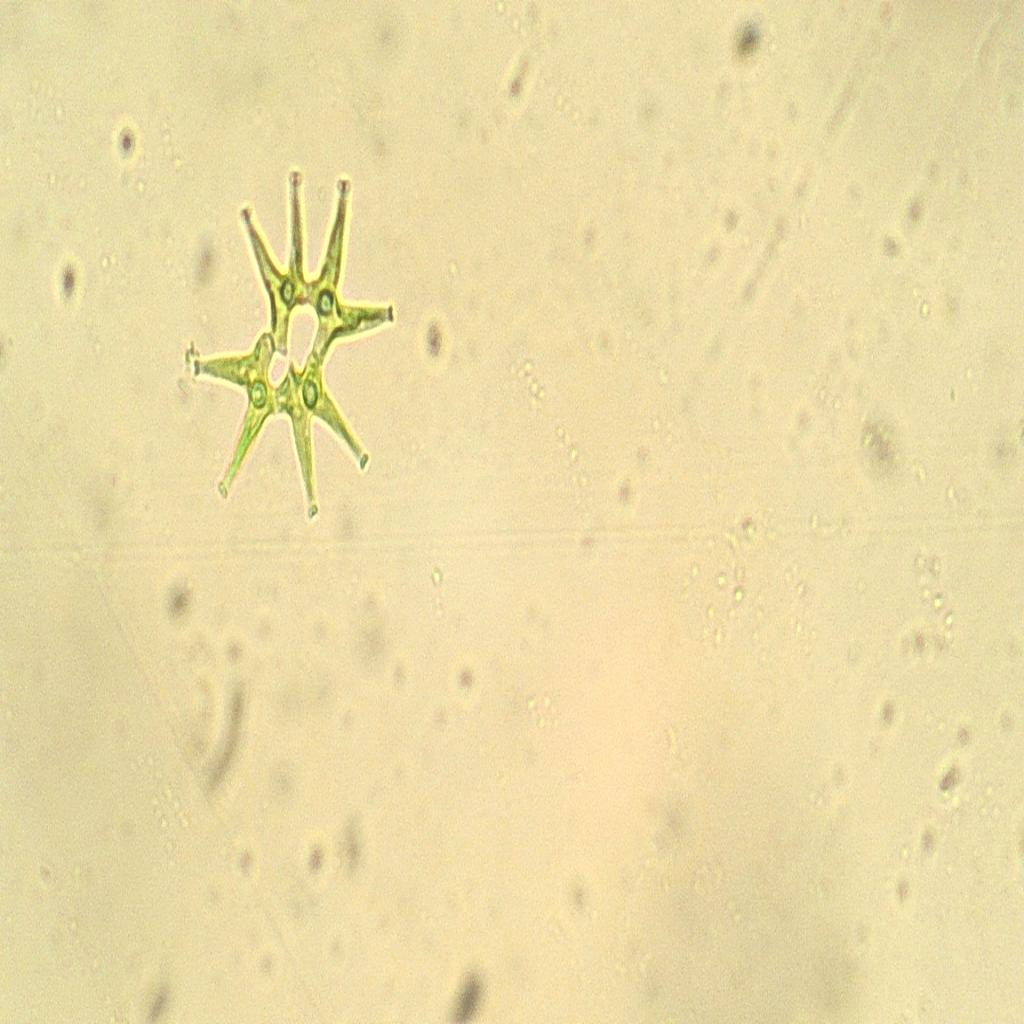Pediastrum_75FO: (189, 162, 405, 543)
